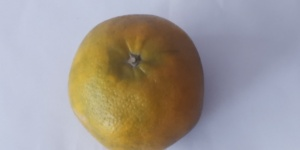BAD: (69, 11, 206, 150)
